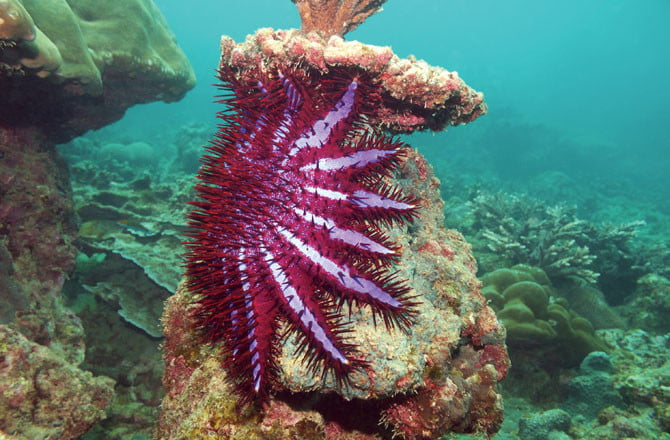starfish: (173, 81, 410, 392)
